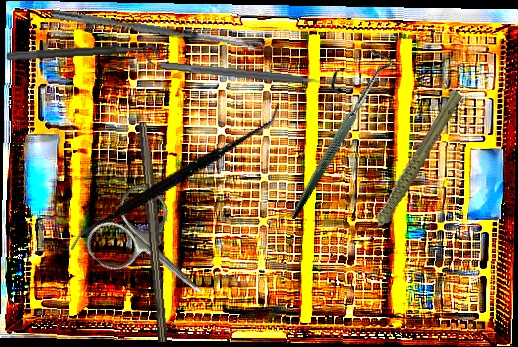Fixation Ring: (158, 50, 346, 97), (6, 43, 161, 74)
Handpiece: (330, 87, 491, 247)
Hook Surgical: (238, 44, 436, 220)
Iris Scissors: (78, 177, 232, 328)
Scalpel Handle: (134, 121, 175, 343)
Spatula Surgical: (68, 48, 282, 305)
Surgical Spoon: (50, 9, 263, 53)
